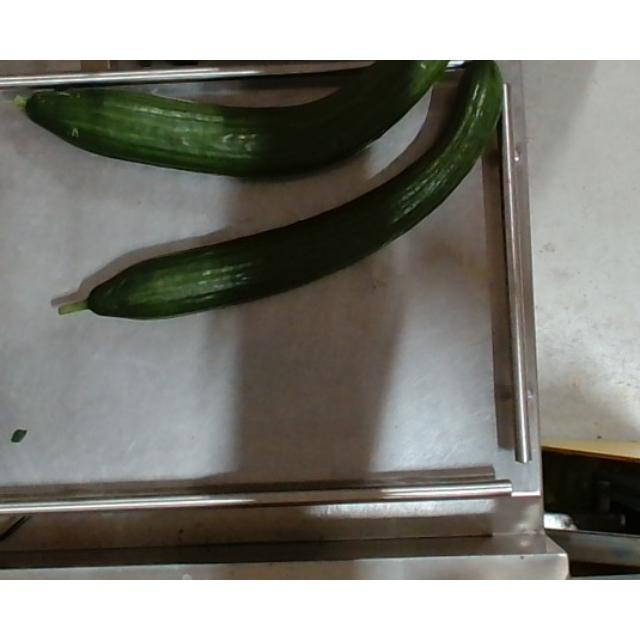cucumber: (58, 60, 504, 318), (15, 60, 451, 182)
